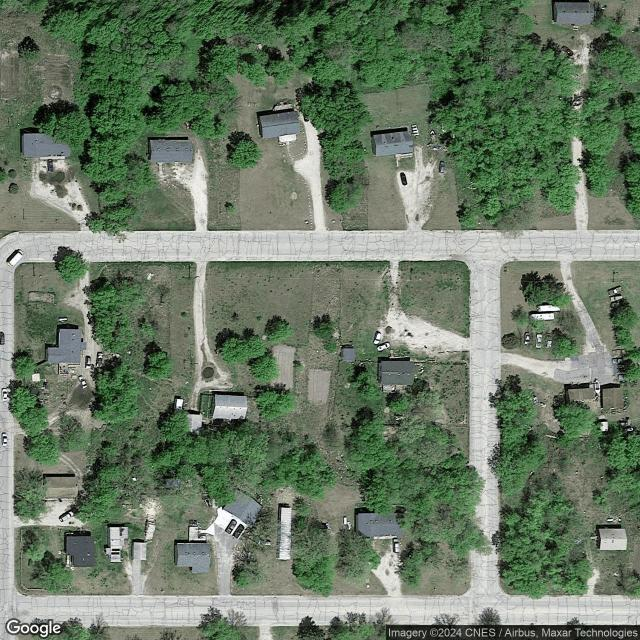Propane: (343, 516, 347, 525), (60, 317, 68, 321), (606, 518, 613, 522)
